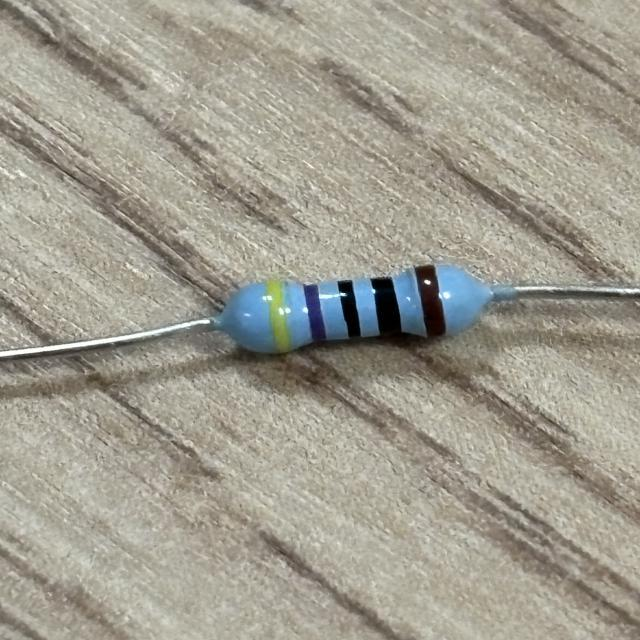resistor: (235, 256, 480, 367)
